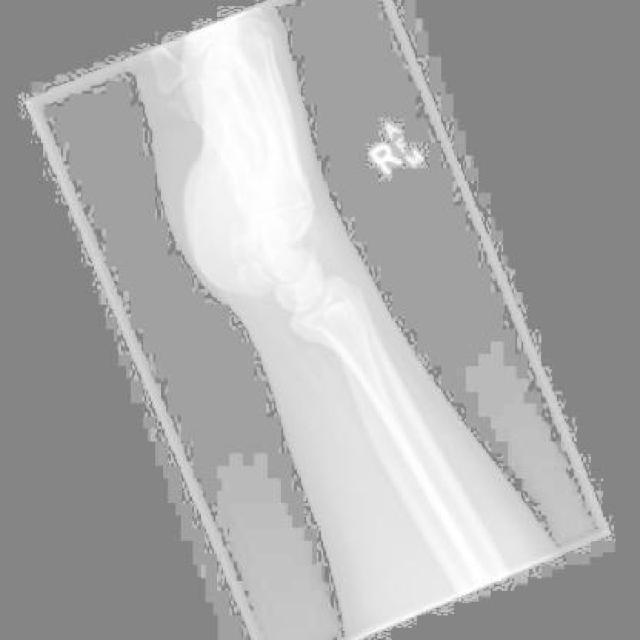Fracture: (296, 240, 333, 286)
